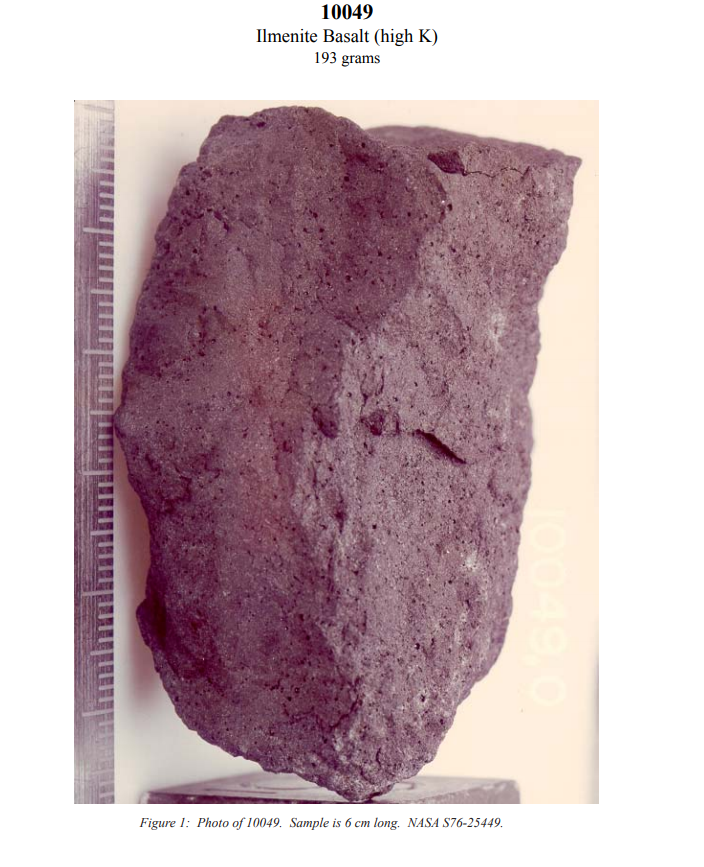Basalt: (119, 97, 585, 792), (248, 257, 473, 675)
